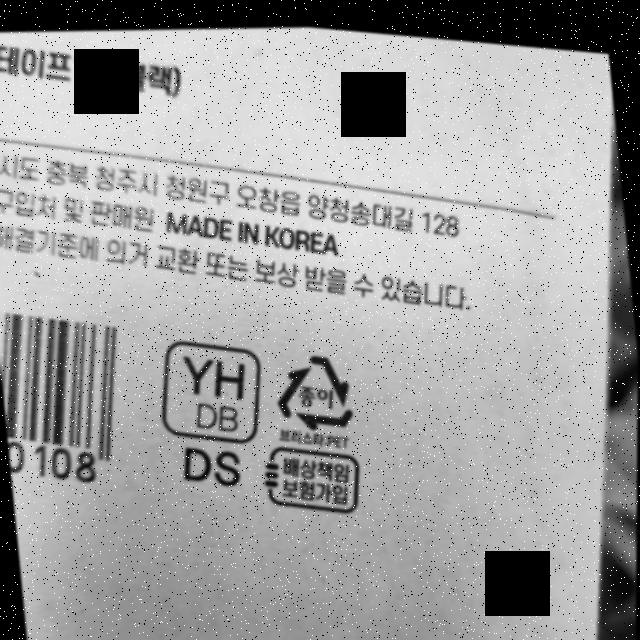Paper: (270, 340, 356, 432)
